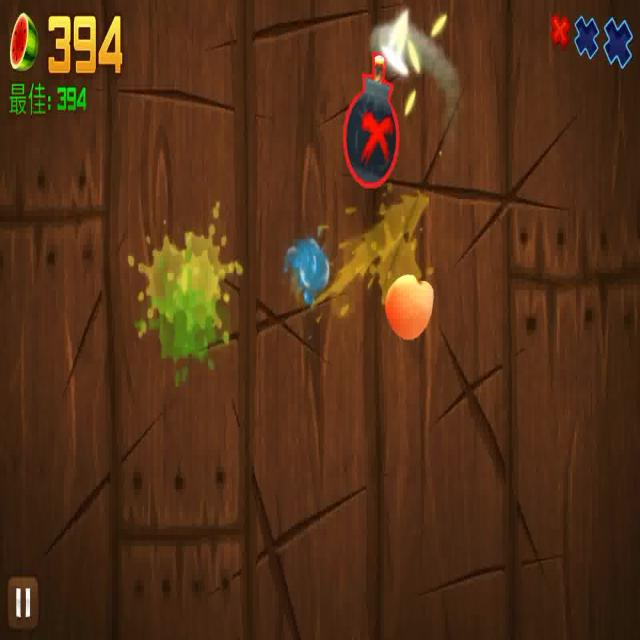bomb: (342, 51, 403, 186)
fruit: (384, 270, 436, 336)
